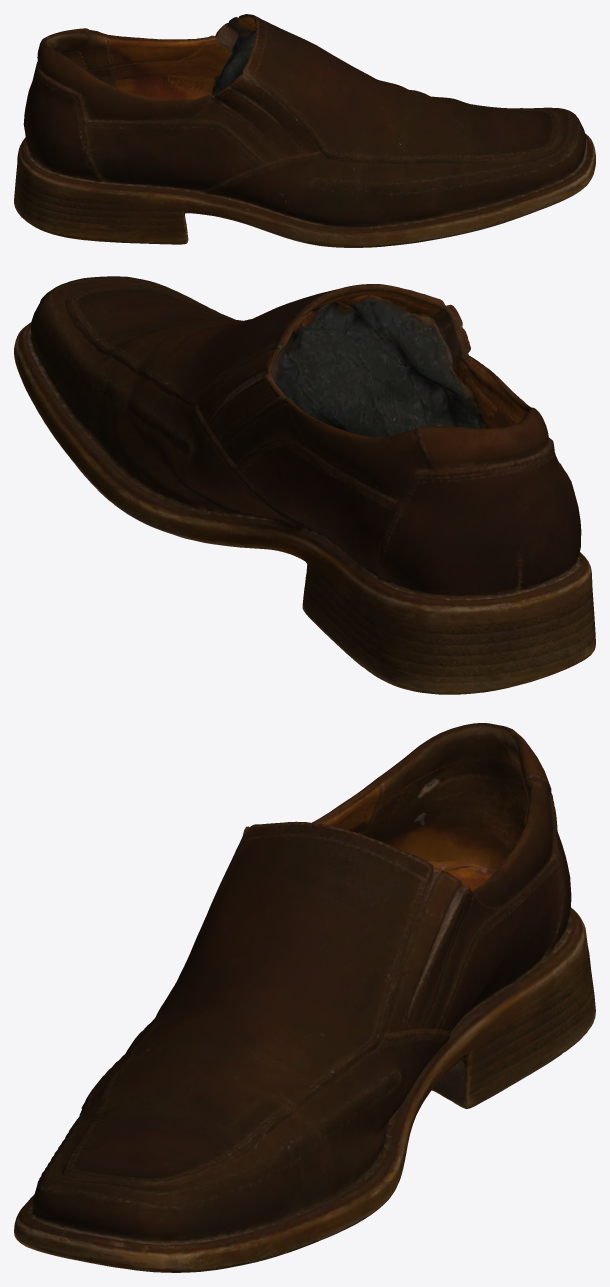
Rendered from loafers.glb.
The picture shows the model from 3 angles, top to bottom: view 1: azimuth 30°, elevation 25°; view 2: azimuth 150°, elevation 25°; view 3: azimuth 270°, elevation 25°; orthographic projection. The views are drawn at different scales.
Parts seen in each view (by area): view 1: Object_2; view 2: Object_2; view 3: Object_2.
Boxes of the visible parts, box(x1,y1,x2,y2) form: Object_2: box(14, 14, 595, 247); Object_2: box(14, 276, 595, 694); Object_2: box(14, 723, 595, 1272).
Bounding box in the file's own units: 0.2859 × 0.1073 × 0.1912.
Materials: 1 (1 with a texture image).
